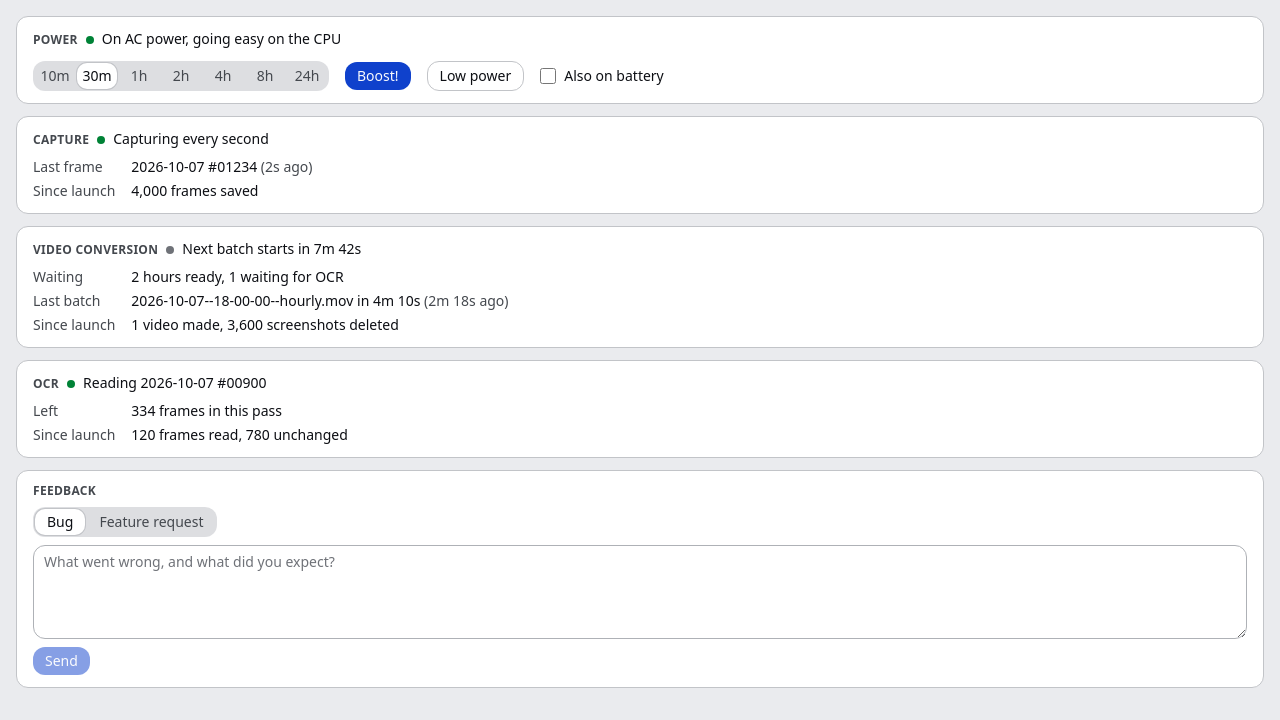
ActivityView › boost › shows why a boost could not start
Click the button "Boost!" at (378,76), box [345,62,411,90]
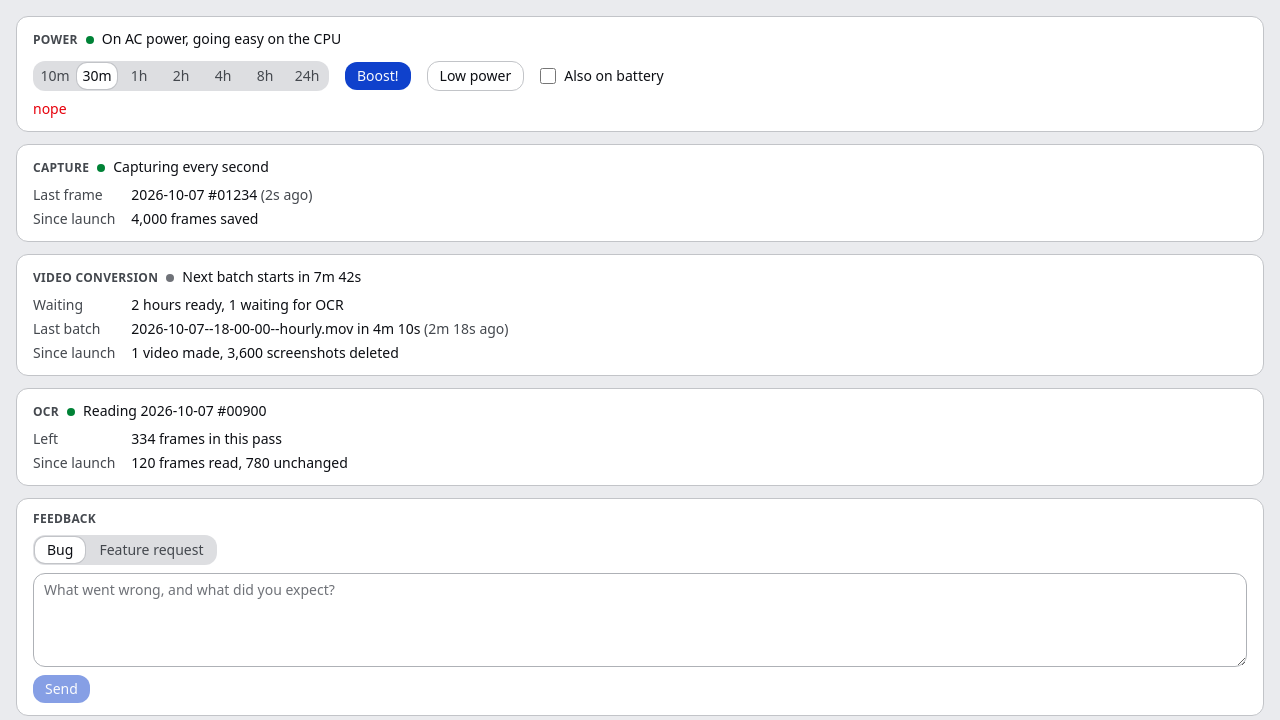
expect the message reads "nope": met, box [33,99,67,118]
